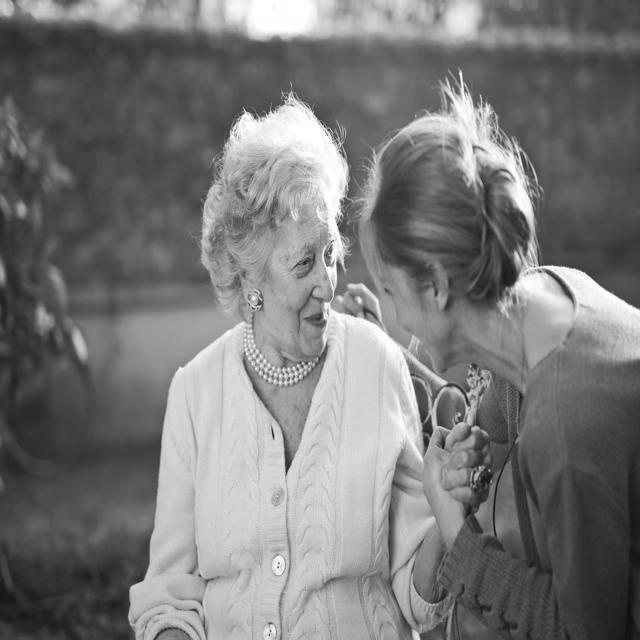Happiness: (258, 205, 340, 367)
